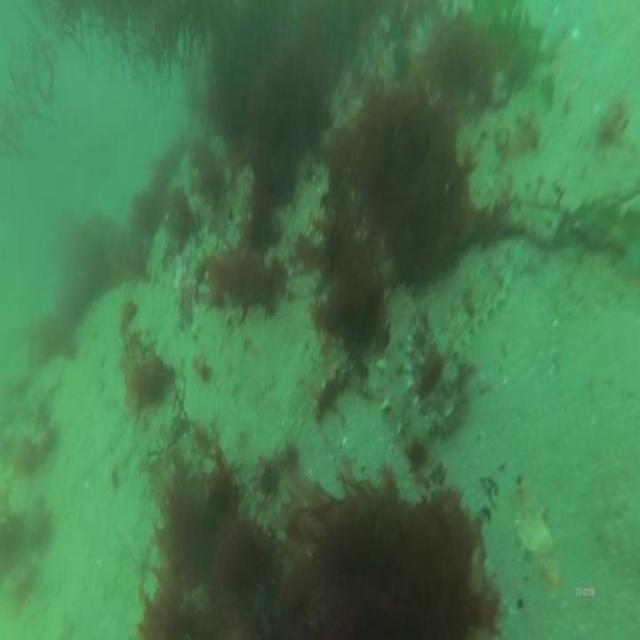holothurian: (428, 261, 512, 357), (401, 311, 464, 438)
waterweeds: (192, 2, 541, 354), (144, 419, 505, 640)
